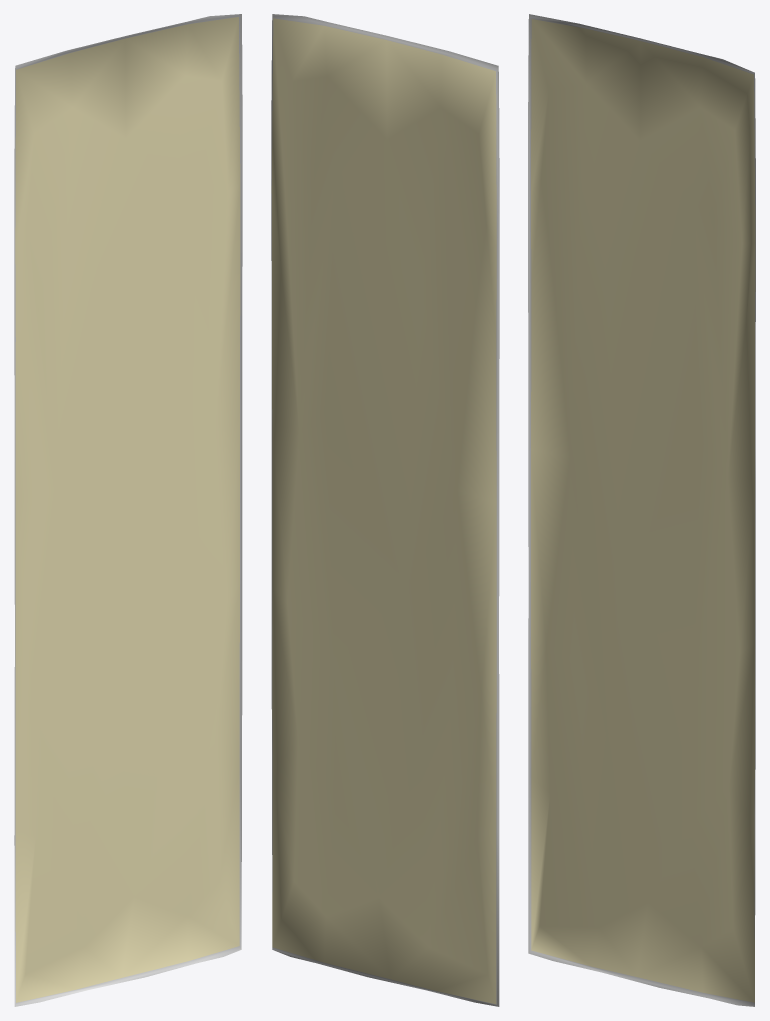
Rendered from ui_inset_lg_1x4.glb.
The picture shows the model from 3 angles, left to right: view 1: azimuth 30°, elevation 25°; view 2: azimuth 150°, elevation 25°; view 3: azimuth 330°, elevation 25°; orthographic projection.
Parts seen in each view (by area): view 1: Cube; view 2: Cube; view 3: Cube.
Boxes of the visible parts, x1,y1,x2,y2 form: Cube: (14,14,242,1006); Cube: (271,14,499,1006); Cube: (528,14,755,1006).
Size of the model in its own units: 0.5013 by 1.99 by 0.00435.
